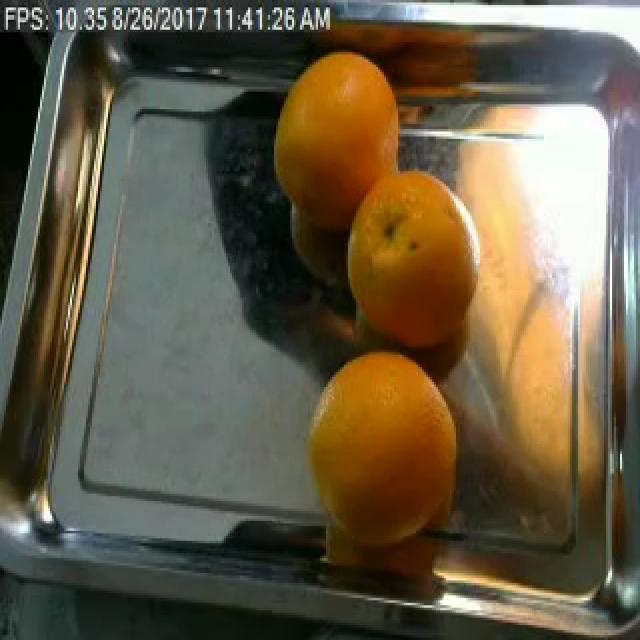Fruit: (332, 144, 500, 365), (256, 34, 414, 230)
